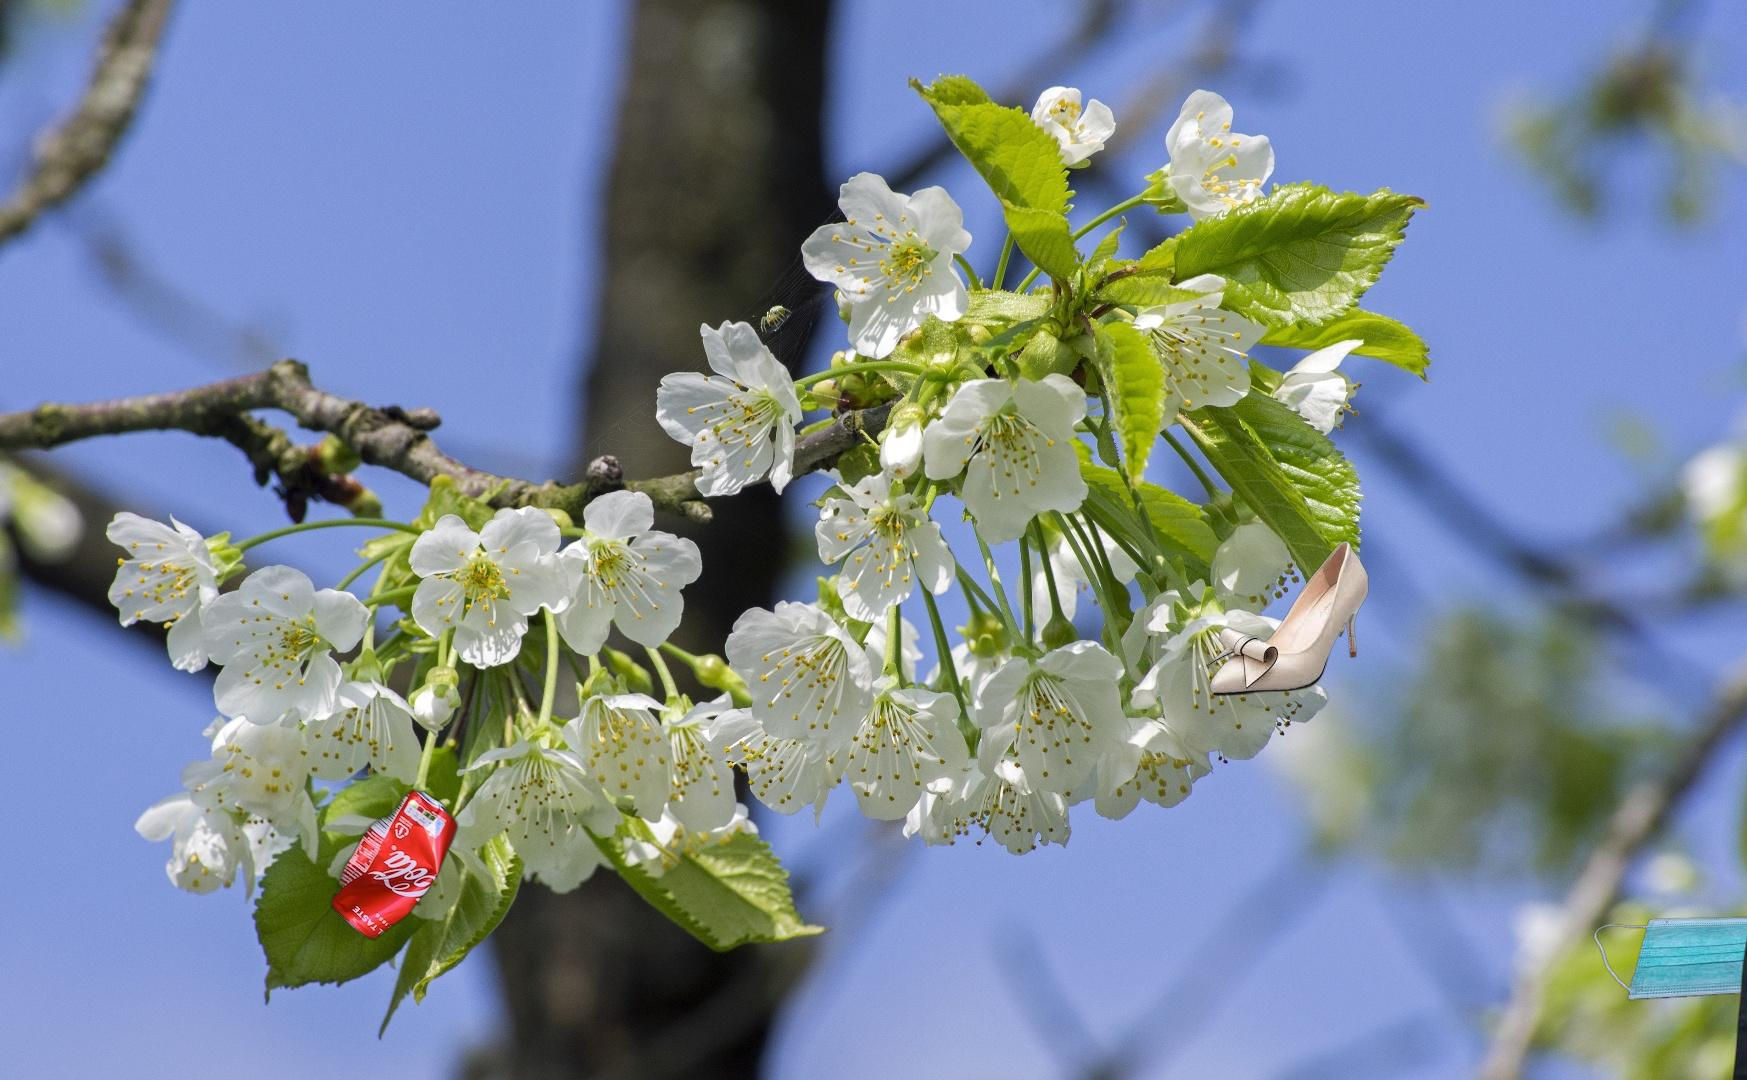clothes: (1718, 889, 1747, 1080)
metal-cans: (309, 1023, 822, 1080), (327, 785, 462, 945)
shoes: (1199, 538, 1371, 699)
trash: (1591, 911, 1747, 1003)
